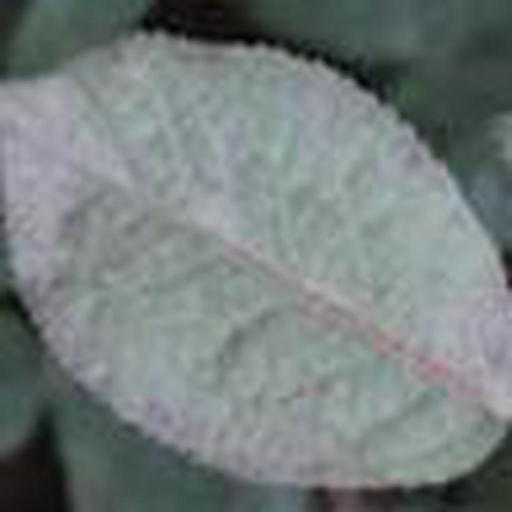powdery_mildew: (0, 32, 512, 488)
